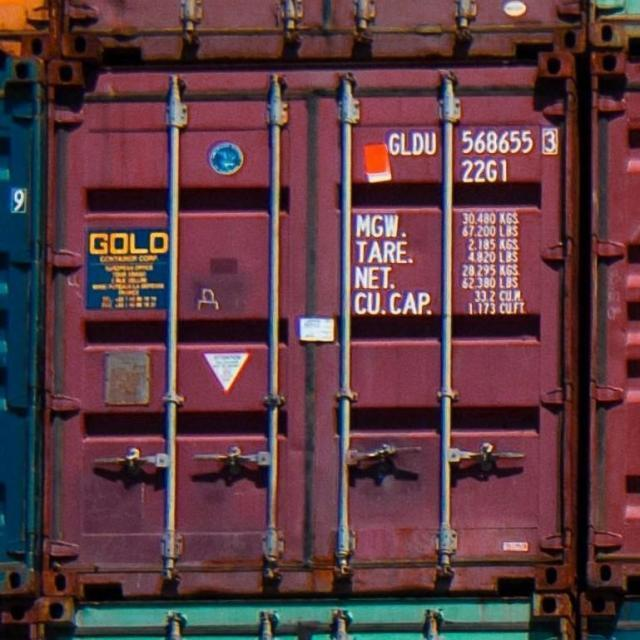ISO: (461, 160, 508, 184)
container_number: (388, 126, 560, 156)
